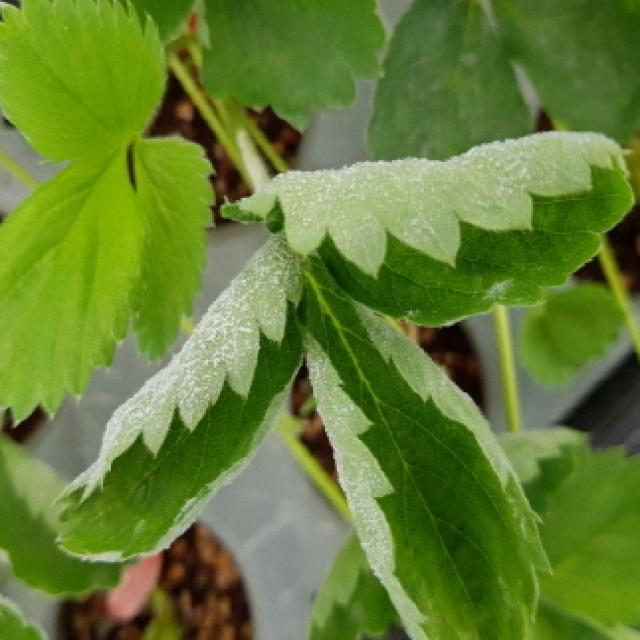Powdery Mildew Leaf: (300, 253, 558, 640), (48, 231, 309, 564), (218, 130, 638, 329)
